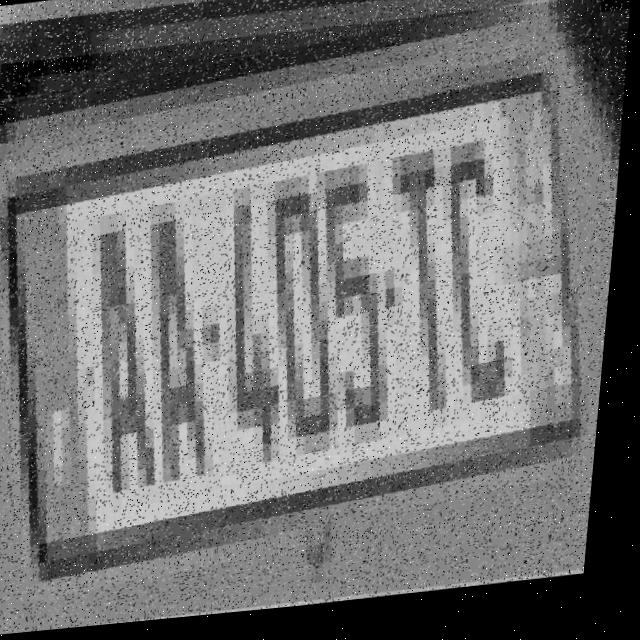LicensePlate: (0, 5, 636, 640)
